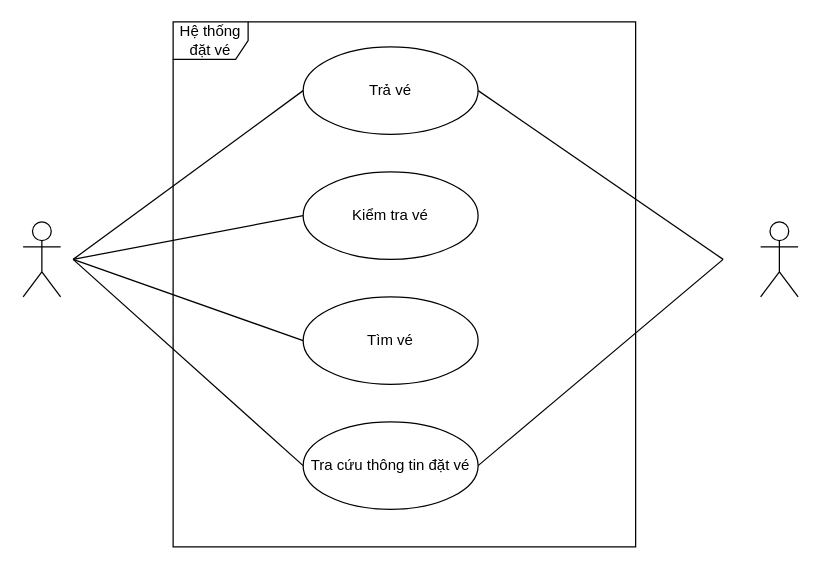
This 821x569 diagram has some shape labels left out. The centre of each missing label's shape, as x and y in pixels:
"Admin" belongs at point 778,259.
"Guest" belongs at point 41,259.
